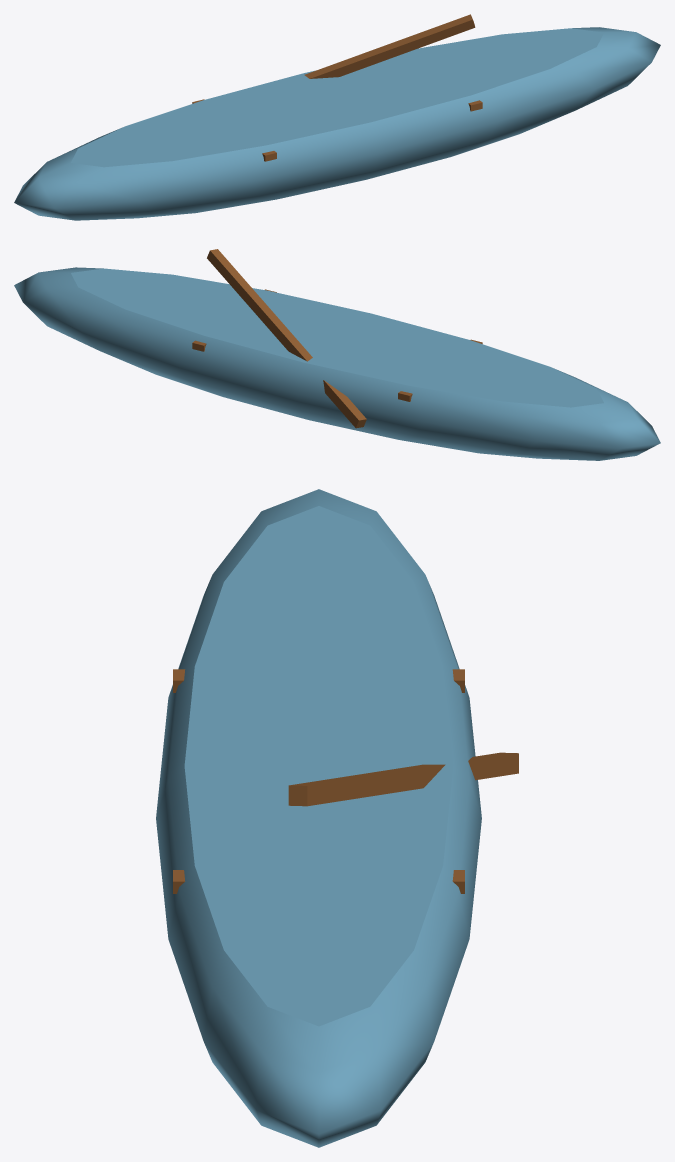
Rendered from canoe.glb.
3 renders of one model, top to bottom at view 1: azimuth 30°, elevation 25°; view 2: azimuth 150°, elevation 25°; view 3: azimuth 270°, elevation 25°, orthographic. The views are drawn at different scales.
Parts seen in each view (by area): view 1: Sphere; view 2: Sphere; view 3: Sphere.
Boxes of the visible parts, x1=… form: Sphere: x1=14, y1=14, x2=660, y2=220; Sphere: x1=14, y1=249, x2=660, y2=460; Sphere: x1=156, y1=489, x2=518, y2=1147.
Bounding box in the file's own units: 4.4 × 0.8392 × 1.07.
